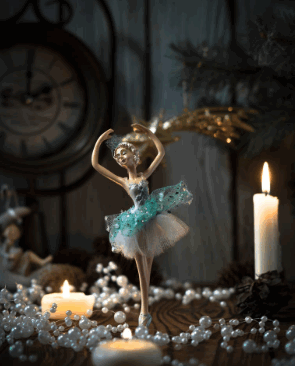Fire: (251, 157, 277, 202)
